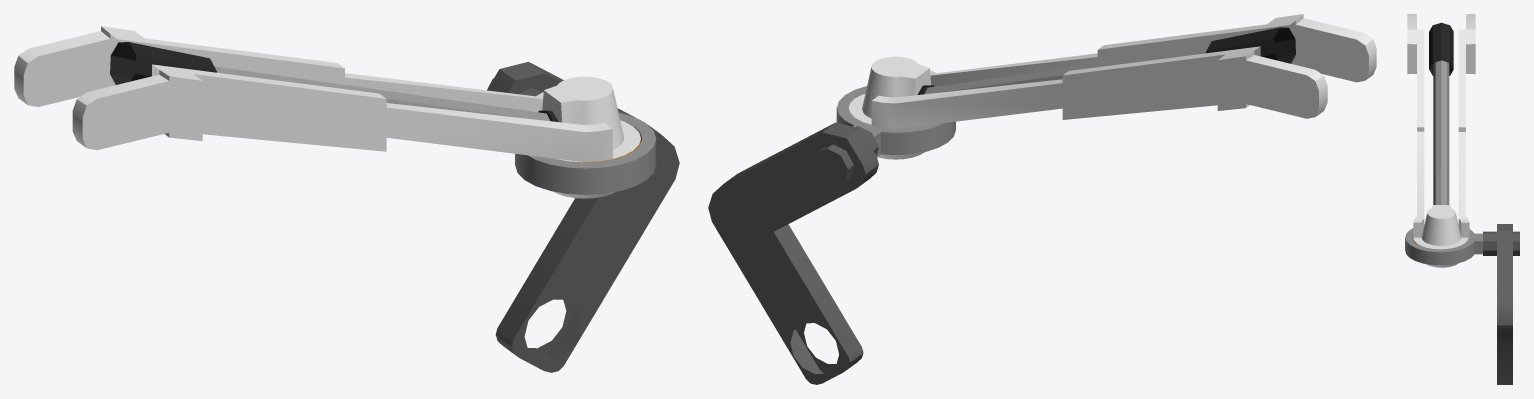
File: pata_del_der.obj
3 renders of one model, left to right at view 1: azimuth 30°, elevation 25°; view 2: azimuth 150°, elevation 25°; view 3: azimuth 270°, elevation 25°, orthographic. The views are drawn at different scales.
Visible parts, largest first — view 1: pata_del_der; view 2: pata_del_der; view 3: pata_del_der.
Part boxes in pixels (x1,y1,x2,y2): pata_del_der: (14, 26, 679, 372); pata_del_der: (708, 14, 1376, 384); pata_del_der: (1405, 14, 1519, 384).
Size of the model in its own units: 4.76 by 3.23 by 1.38.
